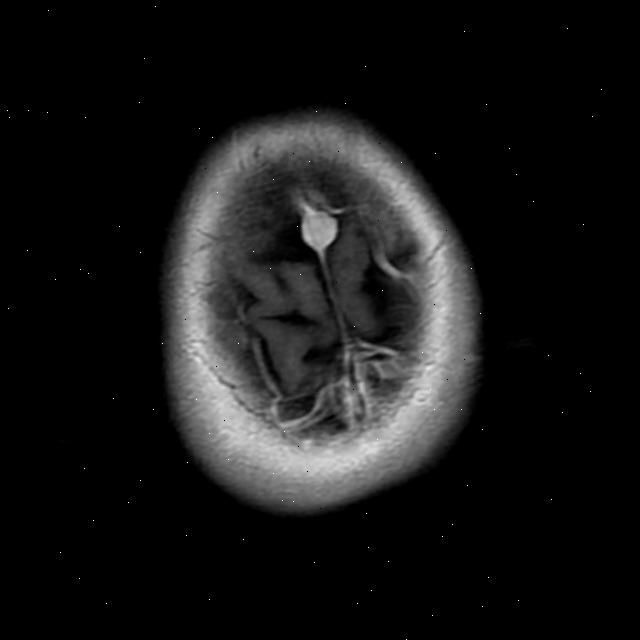Meningioma: (293, 195, 345, 263)
